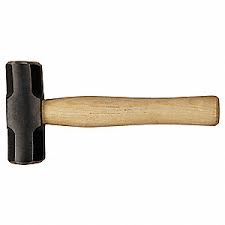hammer: (5, 60, 220, 164)
